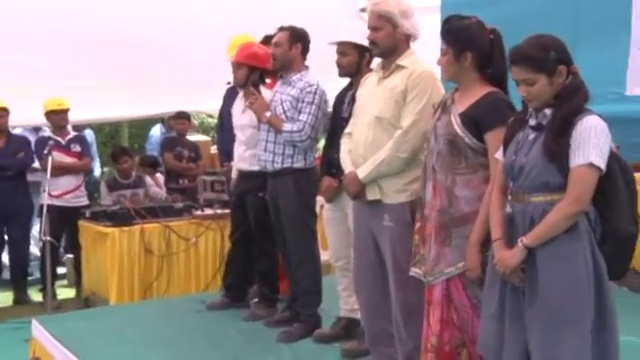helmet: (229, 39, 274, 72), (327, 19, 369, 50), (42, 97, 71, 117)
helmet_off: (504, 30, 585, 115), (434, 14, 503, 90), (364, 4, 419, 59), (268, 25, 312, 74), (110, 147, 135, 181), (0, 98, 17, 146), (170, 112, 192, 138)
helmet_on: (328, 23, 368, 85), (230, 41, 274, 89), (43, 96, 72, 132)
person: (487, 27, 634, 359), (342, 0, 443, 360), (415, 14, 519, 358), (244, 26, 331, 345), (204, 40, 277, 325), (313, 20, 370, 349), (34, 97, 93, 314), (0, 101, 35, 309), (97, 142, 183, 209), (159, 108, 204, 195)
